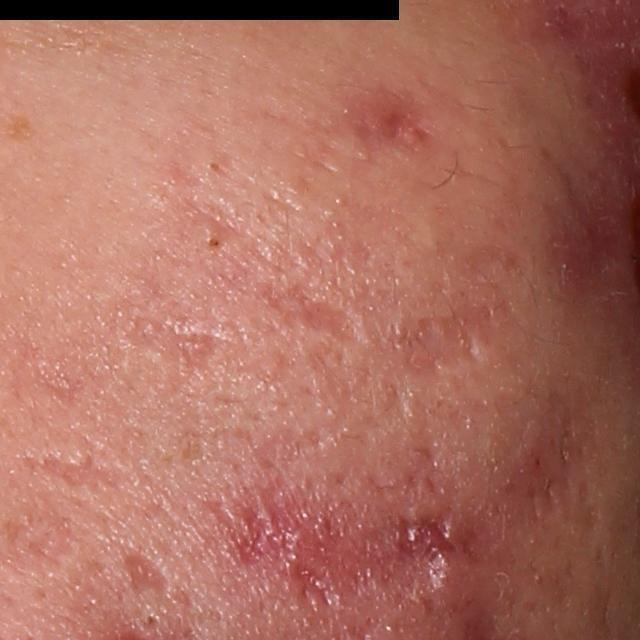atrophic_scar: (387, 301, 527, 383), (120, 311, 214, 394), (254, 278, 367, 347), (30, 449, 140, 492), (367, 95, 439, 156), (118, 549, 173, 595)
